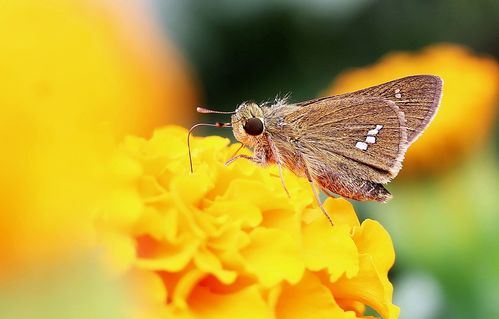Hesperiidae: (186, 73, 443, 226)
